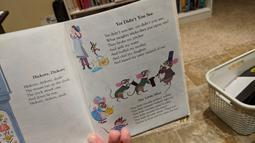text block: (100, 14, 175, 68), (16, 68, 75, 107), (124, 93, 185, 126)
